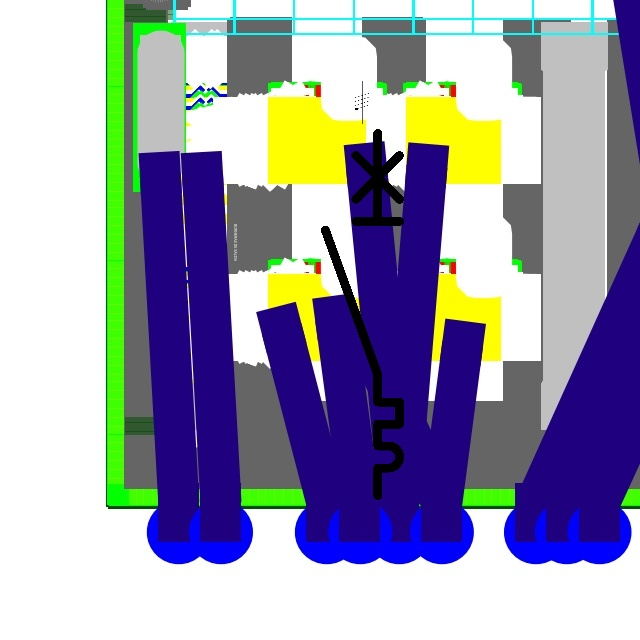interruptor_termomagnetico: (316, 124, 409, 505)
